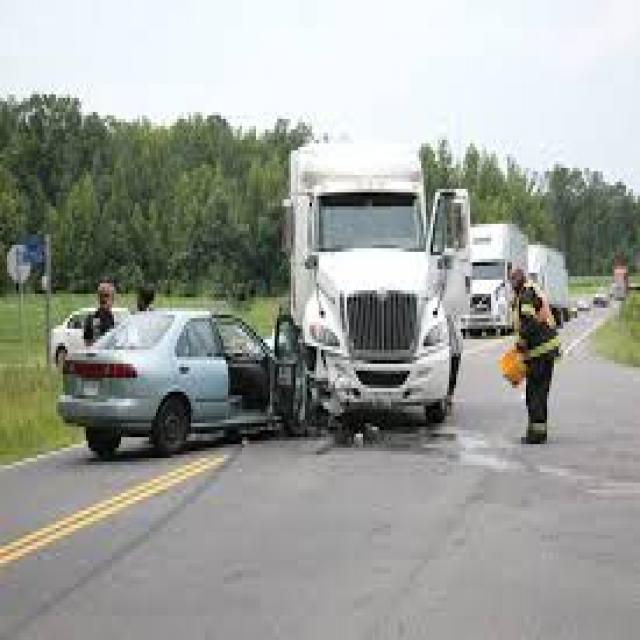accident: (46, 122, 480, 498)
